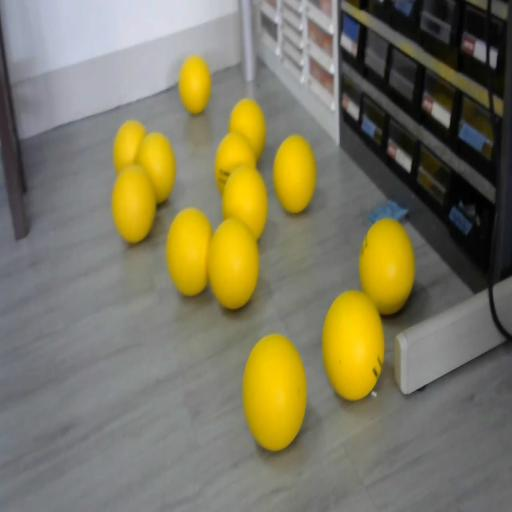FUEL: (242, 332, 308, 450), (321, 288, 386, 400), (358, 218, 416, 315), (166, 206, 212, 295), (221, 164, 269, 240), (112, 164, 156, 243), (273, 134, 317, 213), (228, 98, 266, 161), (178, 55, 211, 114), (113, 120, 147, 174)
